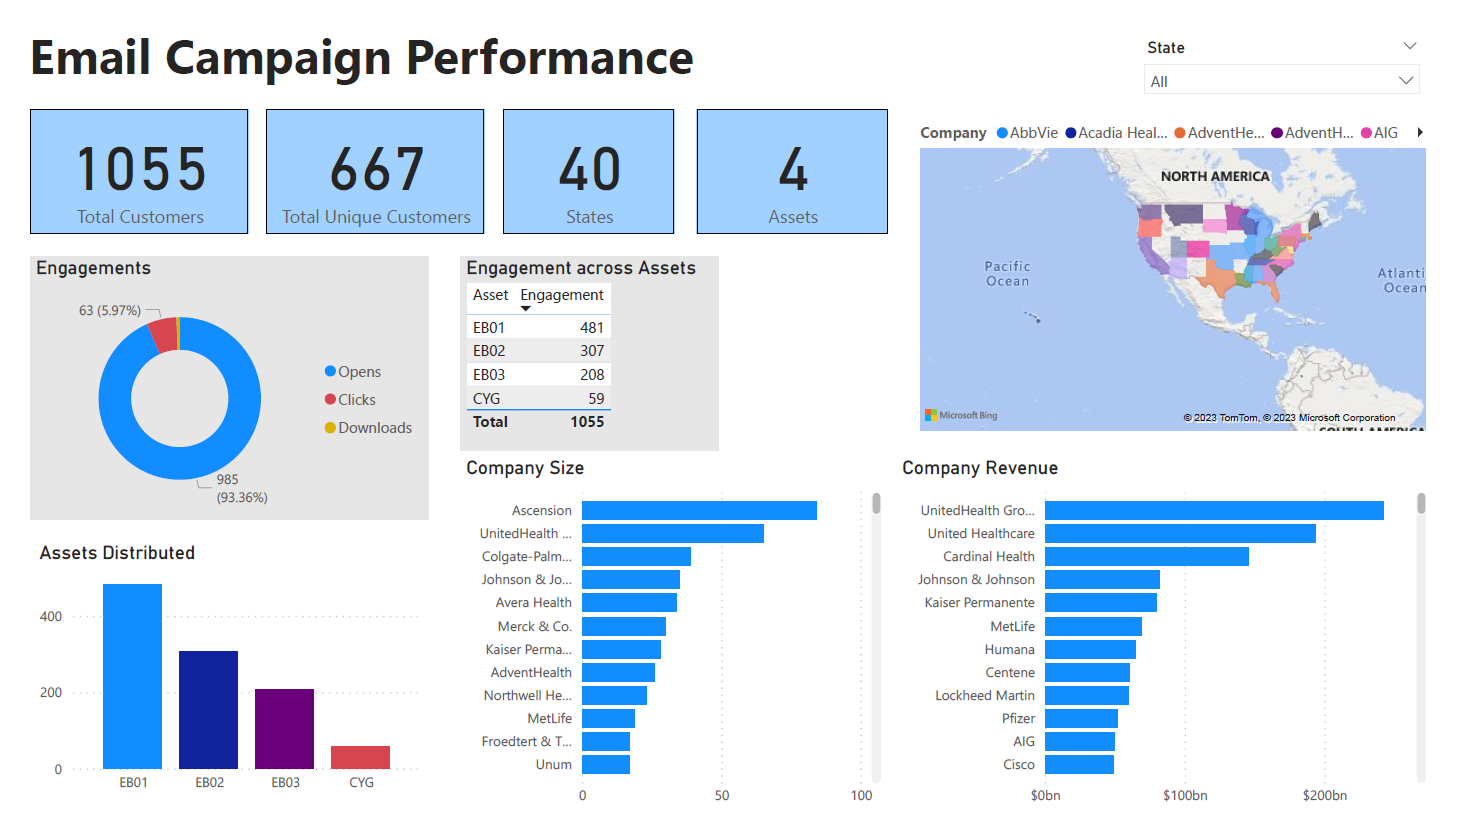

What the dashboard file says about the page in this screenshot:
{"tool":"powerbi","page":{"name":"Page 1","canvas":[1280,720],"ordinal":0},"visuals":[{"type":"textbox","box":[13.4,0,663.8,83.1],"z":0},{"type":"card","fields":{"Values":["Count(5a  Campaign Performance._name)"]},"box":[229.4,82.4,193.9,110.7],"z":1000},{"type":"card","fields":{"Values":["Count(5a  Campaign Performance._state)"]},"box":[440.1,82.4,151.4,110.7],"z":2000},{"type":"card","fields":{"Values":["Count(5a  Campaign Performance._asset)"]},"box":[612,82.4,170,110.7],"z":3000},{"type":"barChart","title":"Company Revenue","fields":{"Y":["Avg(5a  Campaign Performance._revenue)"],"Category":["5a  Campaign Performance._companyName"]},"box":[789.7,391.2,476.7,320.3],"z":4000},{"type":"slicer","fields":{"Values":["5a  Campaign Performance._state"]},"box":[999.9,14.2,266.6,135.5],"z":5000},{"type":"donutChart","title":"Engagements","fields":{"Y":["CountNonNull(5a  Campaign Performance._engagement)"],"Category":["5a  Campaign Performance._engagement"]},"box":[19.5,212.5,353.4,234.7],"z":6000},{"type":"columnChart","title":"Assets Distributed","fields":{"Category":["5a  Campaign Performance._asset"],"Y":["CountNonNull(5a  Campaign Performance._companyName)"]},"box":[22,465.7,350.8,233.5],"z":7000},{"type":"filledMap","fields":{"Category":["5a  Campaign Performance.State"],"Series":["5a  Campaign Performance.Company"]},"box":[805.9,83.2,460.5,290.5],"z":8000},{"type":"clusteredBarChart","title":"Company Size","fields":{"Category":["5a  Campaign Performance.Company"],"Y":["CountNonNull(5a  Campaign Performance.Employee Count)"]},"box":[402.2,391.2,378.9,320.3],"z":9000},{"type":"tableEx","title":"Engagement across Assets","fields":{"Values":["5a  Campaign Performance.Asset","CountNonNull(5a  Campaign Performance.Engagement)"]},"box":[402.1,212.5,228.5,173.6],"z":10000},{"type":"card","fields":{"Values":["CountNonNull(5a  Campaign Performance._name)"]},"box":[19.5,82.4,193.9,110.7],"z":10001}]}

Visuals, with their boxes in screenshot pixels (x1, y1, x2, y2), scaled from the page's 1280x720 canvas onto the 1457x840 screenshot:
textbox: 15, 0, 771, 97
card - Count(5a  Campaign Performance._name): 261, 96, 482, 225
card - Count(5a  Campaign Performance._state): 501, 96, 673, 225
card - Count(5a  Campaign Performance._asset): 697, 96, 890, 225
"Company Revenue" barChart: 899, 456, 1442, 830
slicer - 5a  Campaign Performance._state: 1138, 17, 1442, 175
"Engagements" donutChart: 22, 248, 424, 522
"Assets Distributed" columnChart: 25, 543, 424, 816
filledMap - 5a  Campaign Performance.State x 5a  Campaign Performance.Company: 917, 97, 1442, 436
"Company Size" clusteredBarChart: 458, 456, 889, 830
"Engagement across Assets" tableEx: 458, 248, 718, 450
card - CountNonNull(5a  Campaign Performance._name): 22, 96, 243, 225
